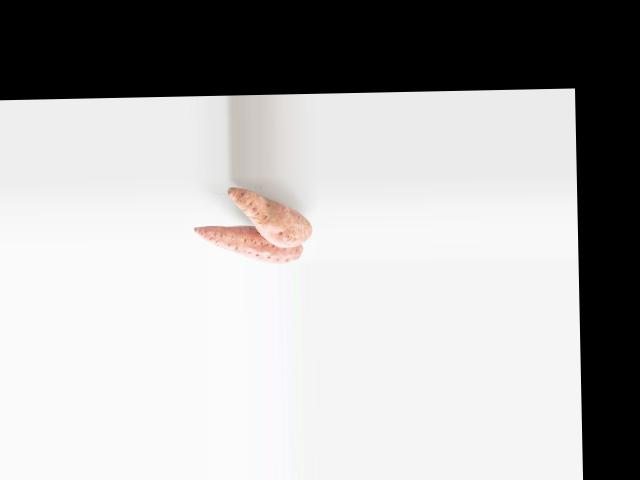sweet_potato: (200, 223, 302, 264)
